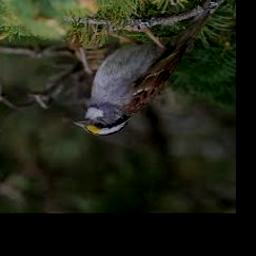Sparrow: (73, 7, 212, 136)
